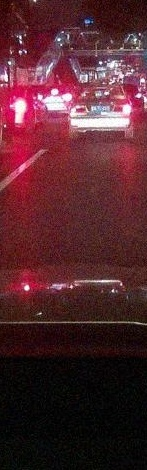L_light: (71, 105, 88, 113)
R_light: (114, 105, 132, 113)
T_light: (96, 89, 107, 91)
night-right: (70, 86, 133, 140)
